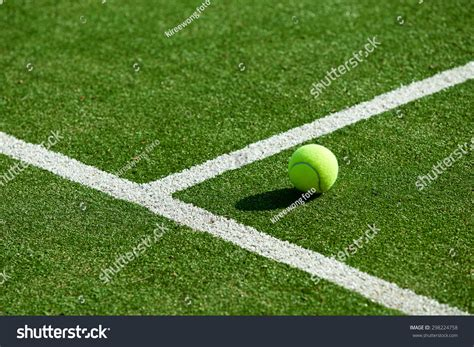tennis_ball: (288, 144, 339, 194)
